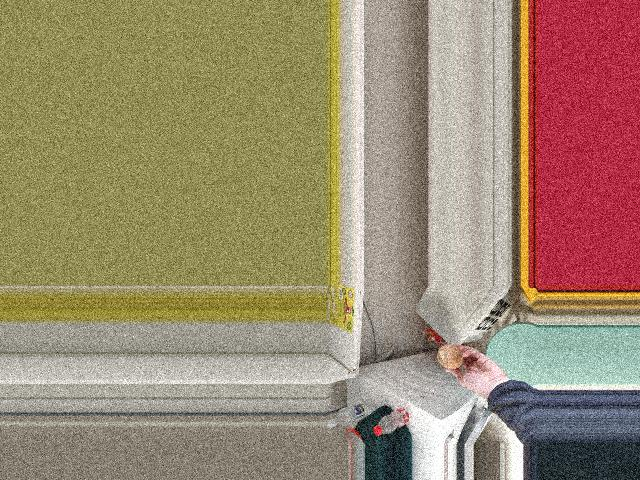sweet_potato: (438, 346, 466, 369)
